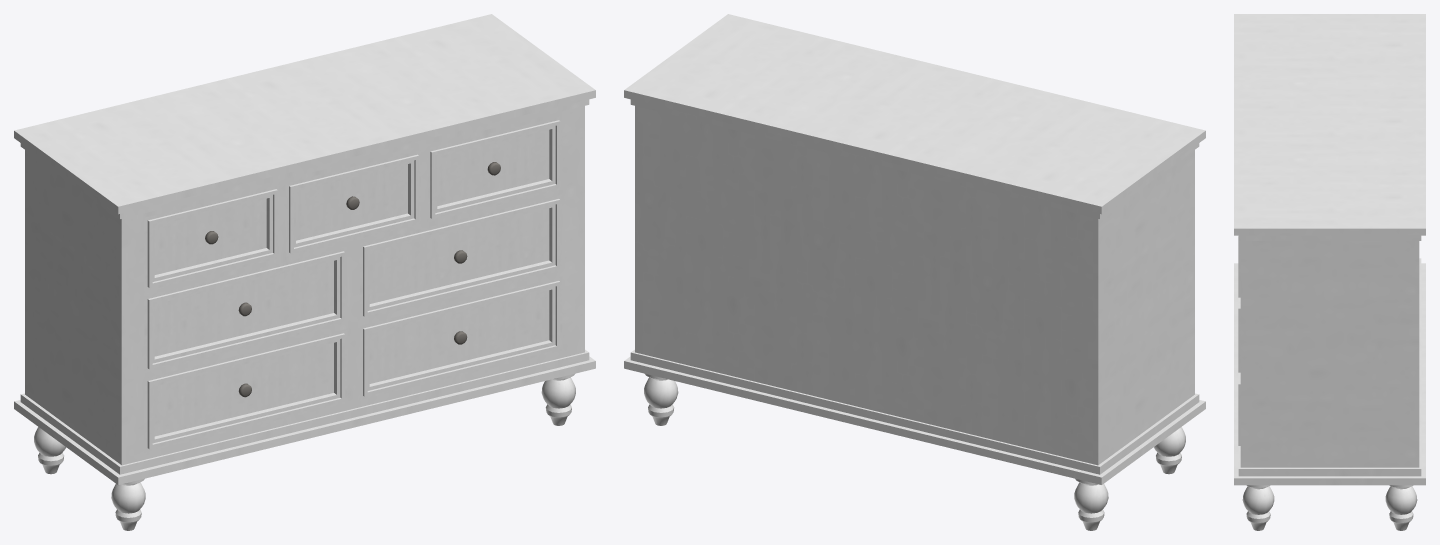
File: Drawer38.fbx
3 renders of one model, left to right at view 1: azimuth 30°, elevation 25°; view 2: azimuth 150°, elevation 25°; view 3: azimuth 270°, elevation 25°, orthographic. The views are drawn at different scales.
Visible parts, largest first — view 1: Drawer38_Body, Drawer38_5, Drawer38_4, Drawer35_7.002, Drawer38_7, Drawer38_1, Drawer38_2, Drawer38_3; view 2: Drawer38_Body; view 3: Drawer38_Body.
Part boxes in pixels (x1,y1,x2,y2): Drawer38_Body: [14, 14, 595, 530]; Drawer38_5: [359, 194, 562, 319]; Drawer38_4: [144, 247, 347, 372]; Drawer35_7.002: [359, 276, 562, 399]; Drawer38_7: [144, 329, 347, 452]; Drawer38_1: [144, 185, 279, 291]; Drawer38_2: [285, 150, 420, 256]; Drawer38_3: [427, 116, 562, 222]; Drawer38_Body: [624, 14, 1205, 530]; Drawer38_Body: [1234, 14, 1425, 530].
Bounding box in the file's own units: 157 × 106 × 59.27.
